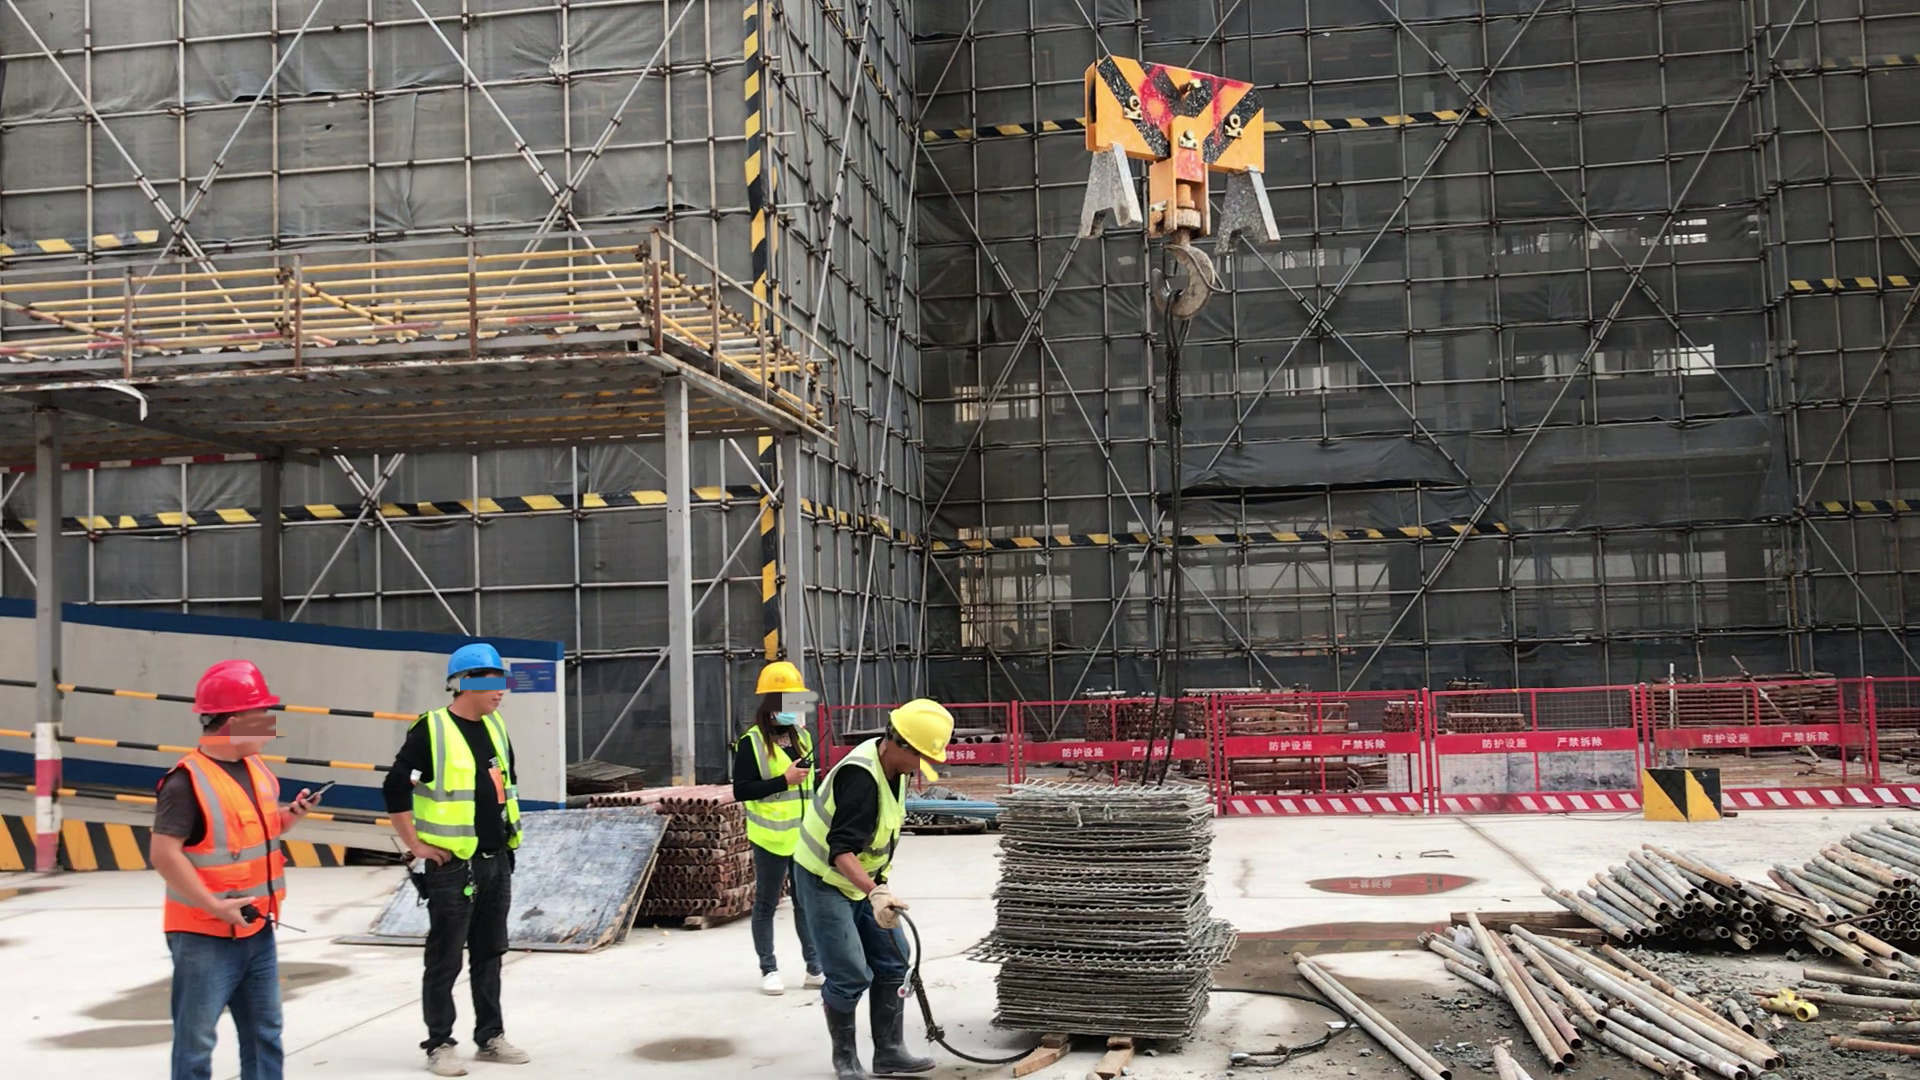fence: (962, 677, 1920, 824)
helmet: (191, 660, 280, 710), (891, 699, 953, 761), (445, 642, 508, 677), (756, 661, 809, 694)
hook: (1079, 51, 1281, 322)
person: (806, 699, 953, 1080), (402, 643, 527, 1073), (162, 662, 290, 1080), (738, 660, 828, 993)
scaffold: (594, 783, 751, 923)
vest: (167, 756, 285, 938), (416, 710, 523, 858), (802, 745, 904, 895), (742, 727, 815, 860)
